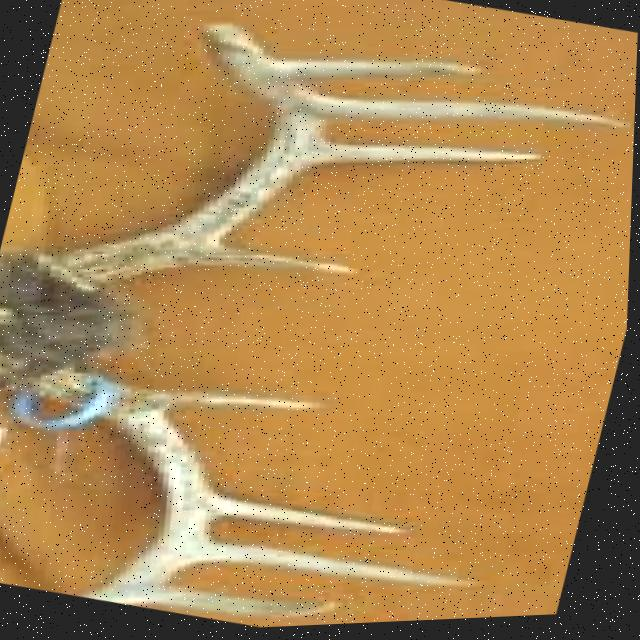L-F: (43, 23, 302, 286)
L-G1: (180, 246, 359, 278)
L-G2: (313, 146, 546, 167)
L-G3: (319, 98, 629, 134)
L-G4: (271, 62, 485, 81)
R-F: (15, 369, 209, 605)
R-G1: (140, 390, 332, 413)
R-G2: (210, 494, 415, 538)
R-G3: (192, 544, 483, 591)
R-G4: (129, 591, 341, 619)
